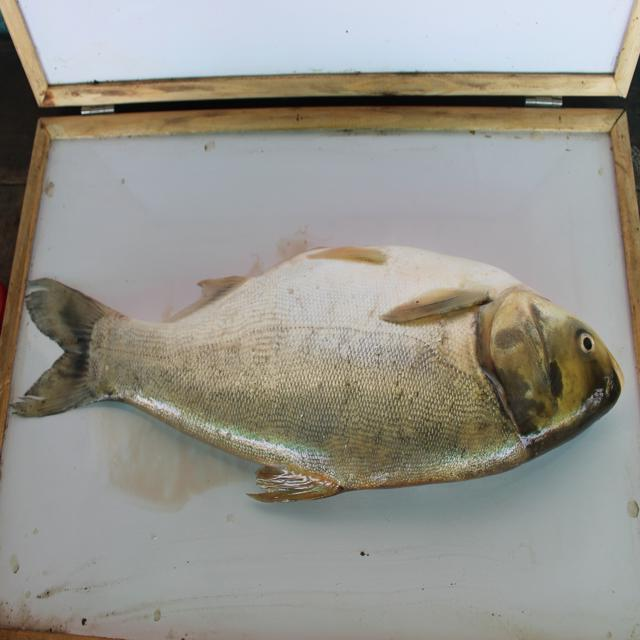SilverCarp: (18, 239, 626, 505)
